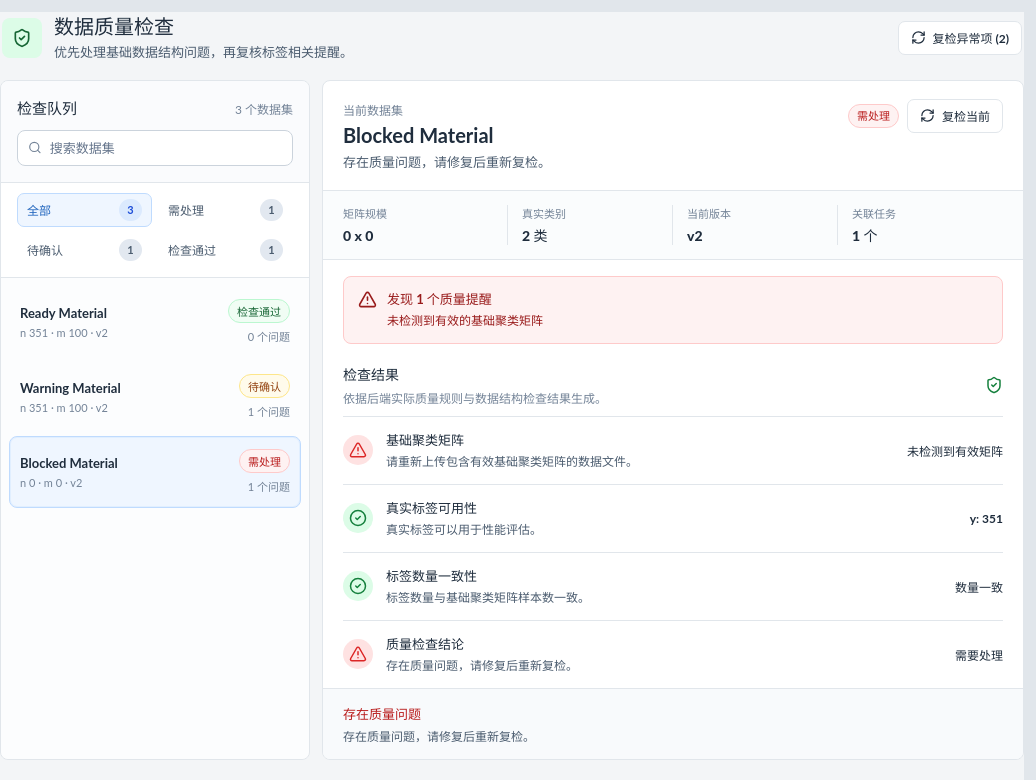
Test: DataQualityPage › shows ready dataset quality summary without task creation entry
What coordinates should you click on to do the following:
click the button "Ready Material n 351 · m 100 · v2 检查通过 0 个问题"
I would click on:
 (63, 313)
Its box is 9,286 -> 301,358.
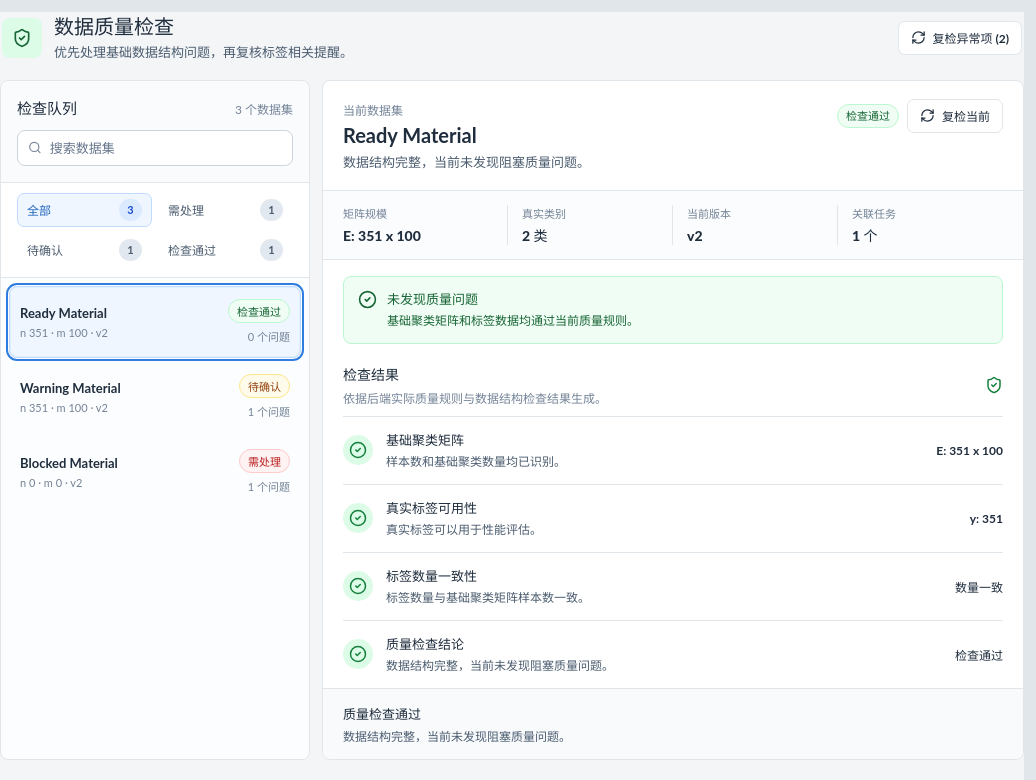
Expected: the text "质量检查通过" is shown, 343,706 -> 421,722
Expected: the text "检查通过" in the row of "当前数据集" is shown, 846,109 -> 890,122
